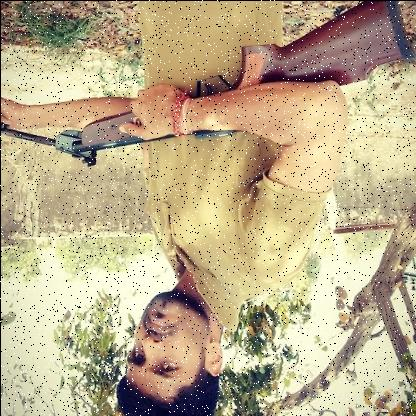rifle: (1, 1, 416, 169)
